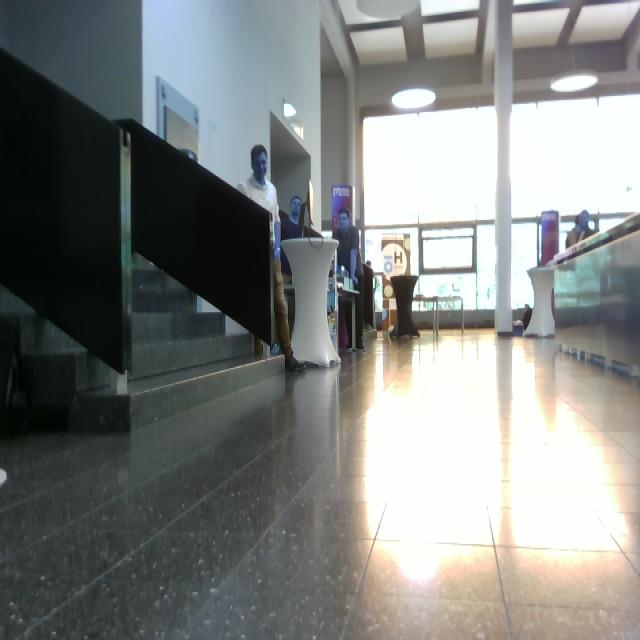door: (115, 116, 258, 380), (269, 109, 311, 355)
light bulb: (549, 44, 598, 92), (356, 0, 419, 20), (549, 71, 598, 92), (390, 87, 436, 109), (282, 101, 296, 118)
person: (236, 144, 306, 372), (335, 207, 365, 351)
pillar: (492, 0, 513, 335)
table: (278, 233, 344, 372)
tiled floor: (0, 323, 638, 637)
